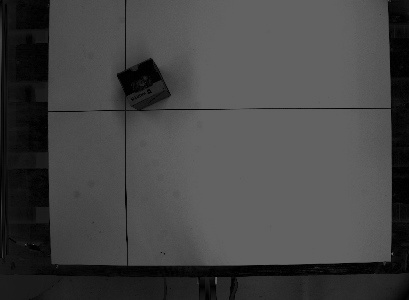b7: (112, 55, 176, 108)
